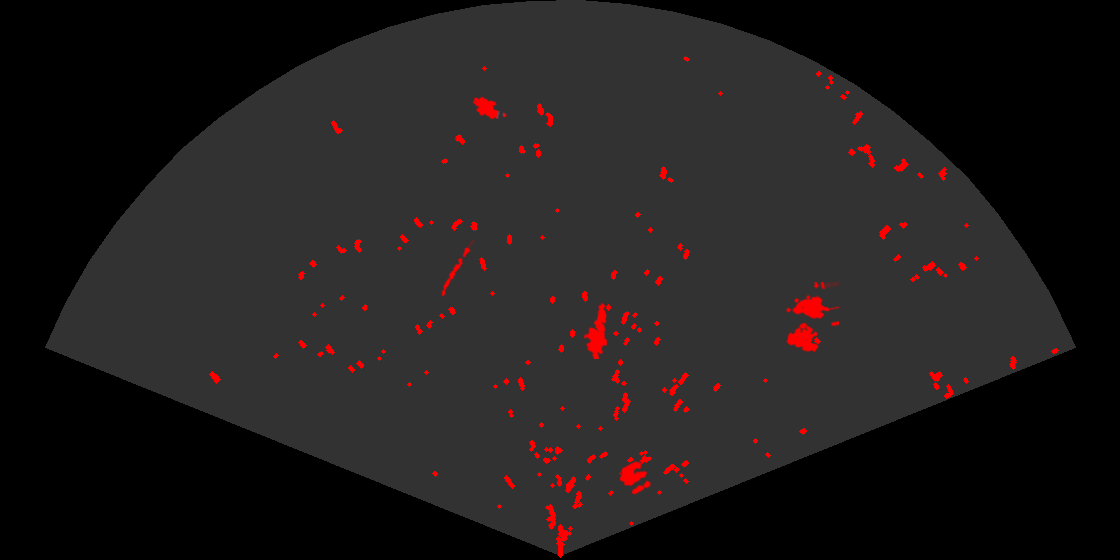AUV: (471, 95, 509, 121)
ball: (618, 459, 653, 496)
cage: (784, 282, 839, 354)
chain: (439, 240, 475, 298)
frogman: (582, 301, 609, 359)
